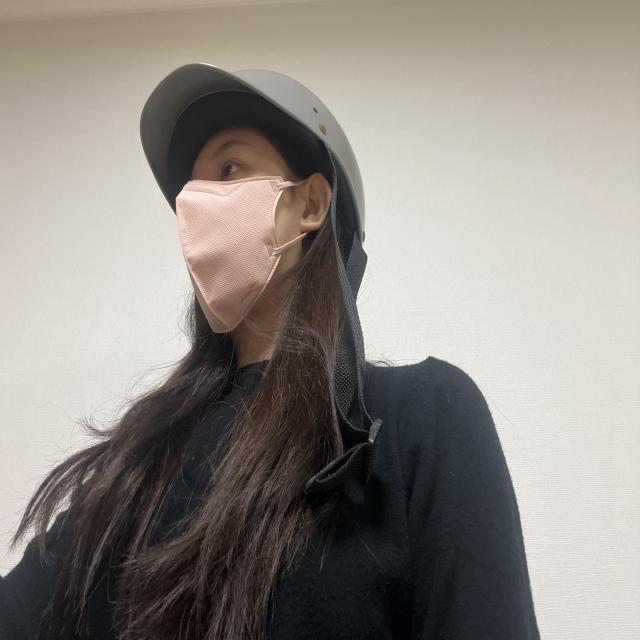Helmet: (124, 52, 380, 347)
